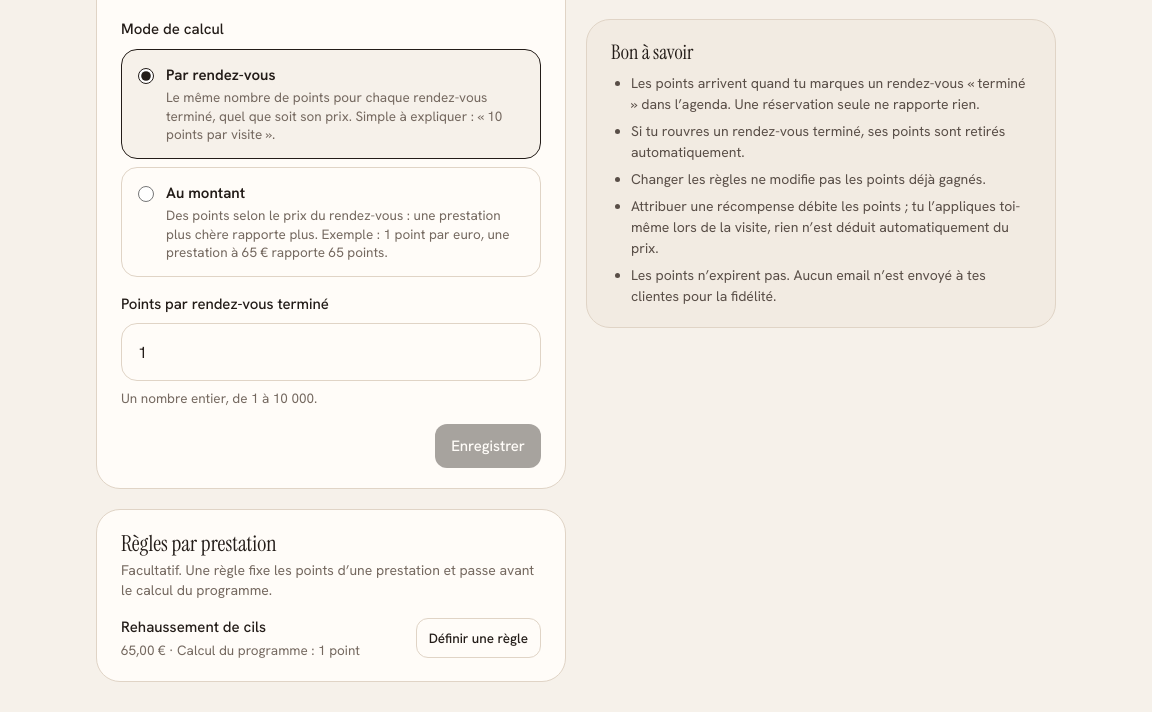
Test: program › checks values before sending and maps backend field errors to the fields
The width and height of the screenshot is (1152, 712).
(page scrolled)
Replace the text in the field labelled "Points par rendez-vous terminé" with "0" at (331, 352), box [122,324,540,380]
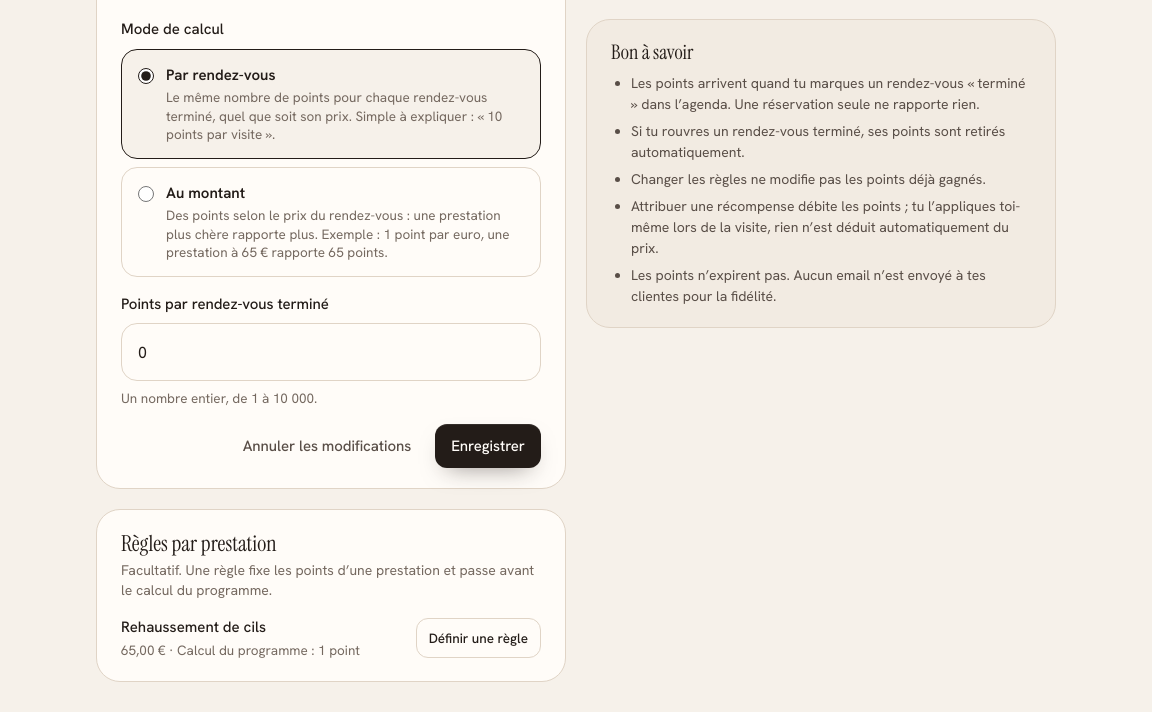
Click the button "Enregistrer" at (488, 446), box [435,424,541,468]
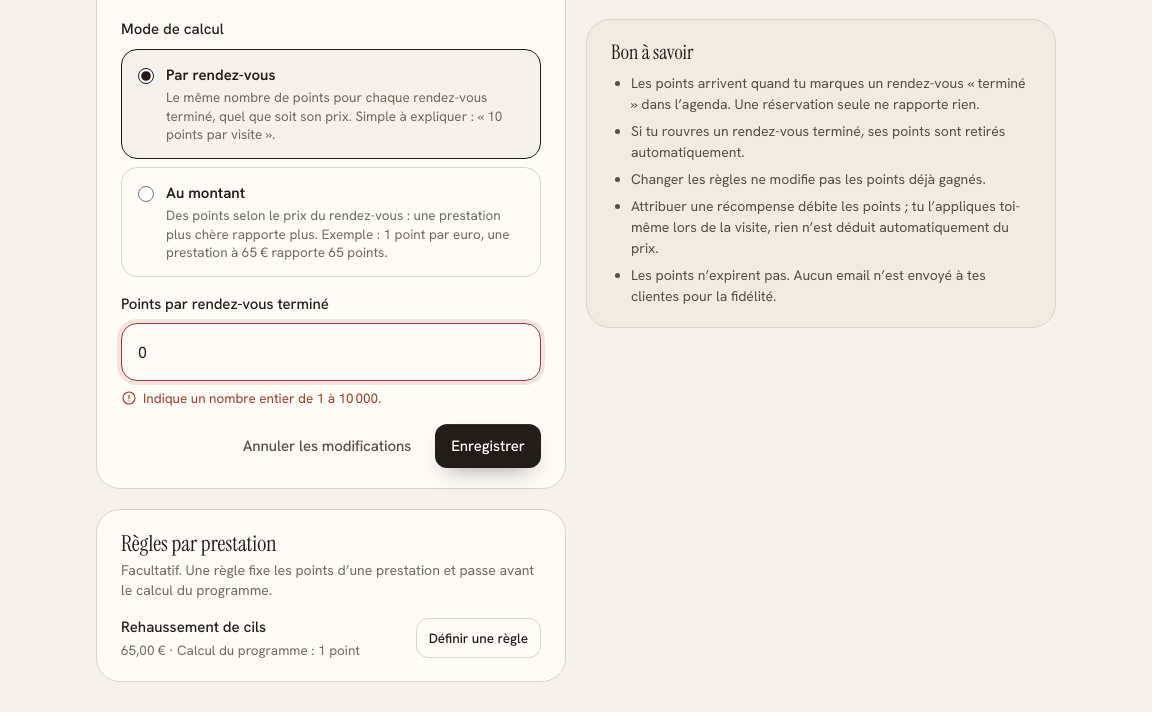
Expected: the text "Indique un nombre entier de 1 à 10 000." is shown, [143,389,381,408]
Replace the text in the field labelled "Points par rendez-vous terminé" with "20" at (331, 352), box [122,324,540,380]
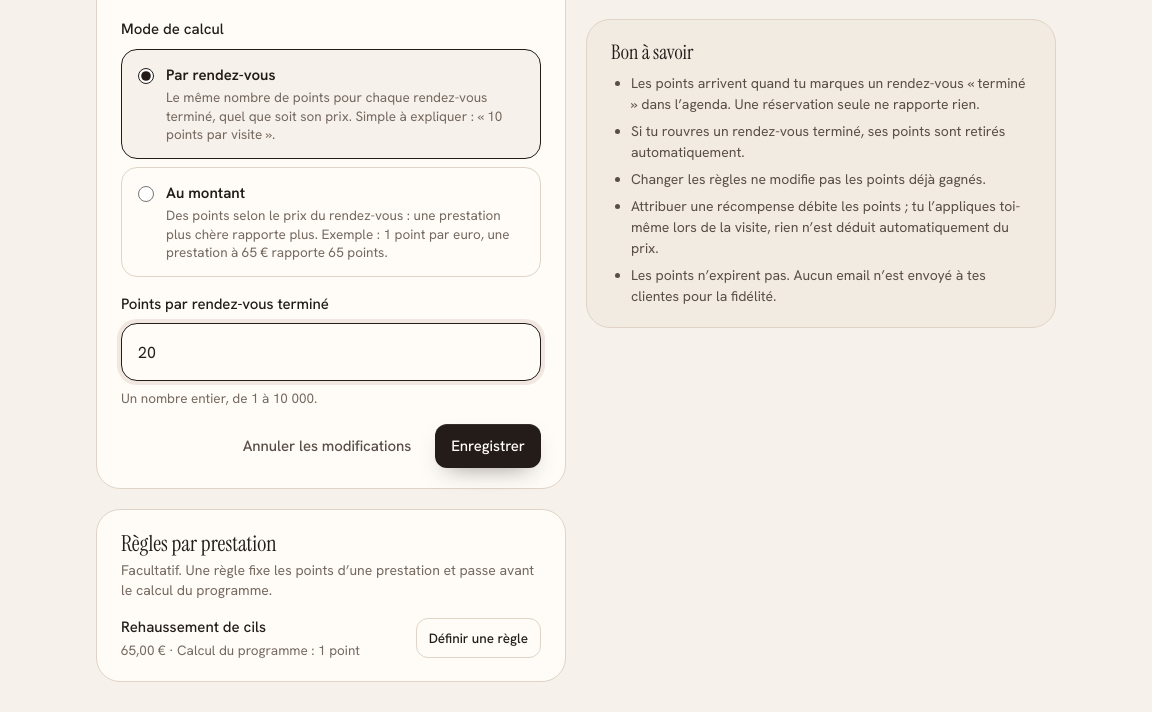
Click the button "Enregistrer" at (488, 446), box [435,424,541,468]
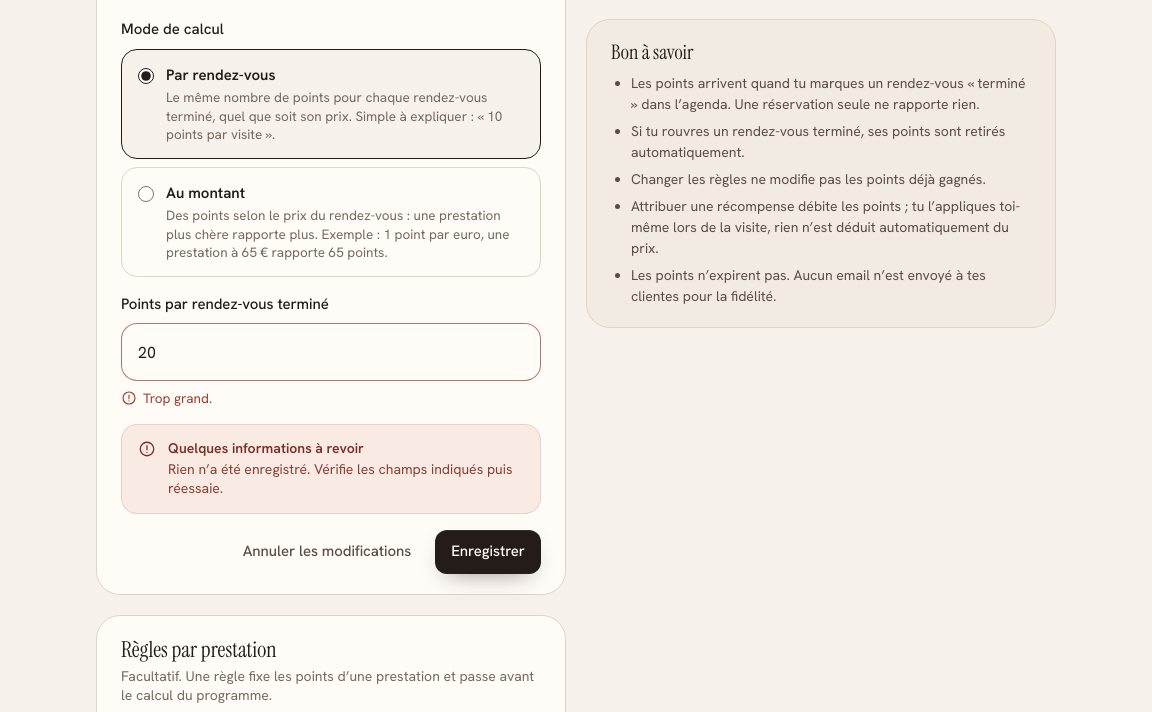
Expected: the text "Trop grand." is shown, [143,389,212,408]
Expected: the text "Rien n’a été enregistré" is shown, [168,460,310,478]
